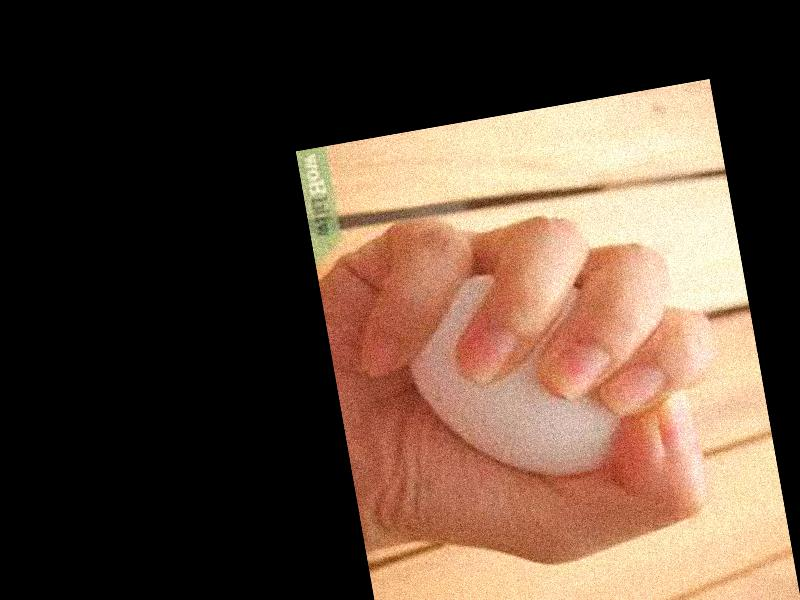Eggs: (396, 254, 628, 501)
